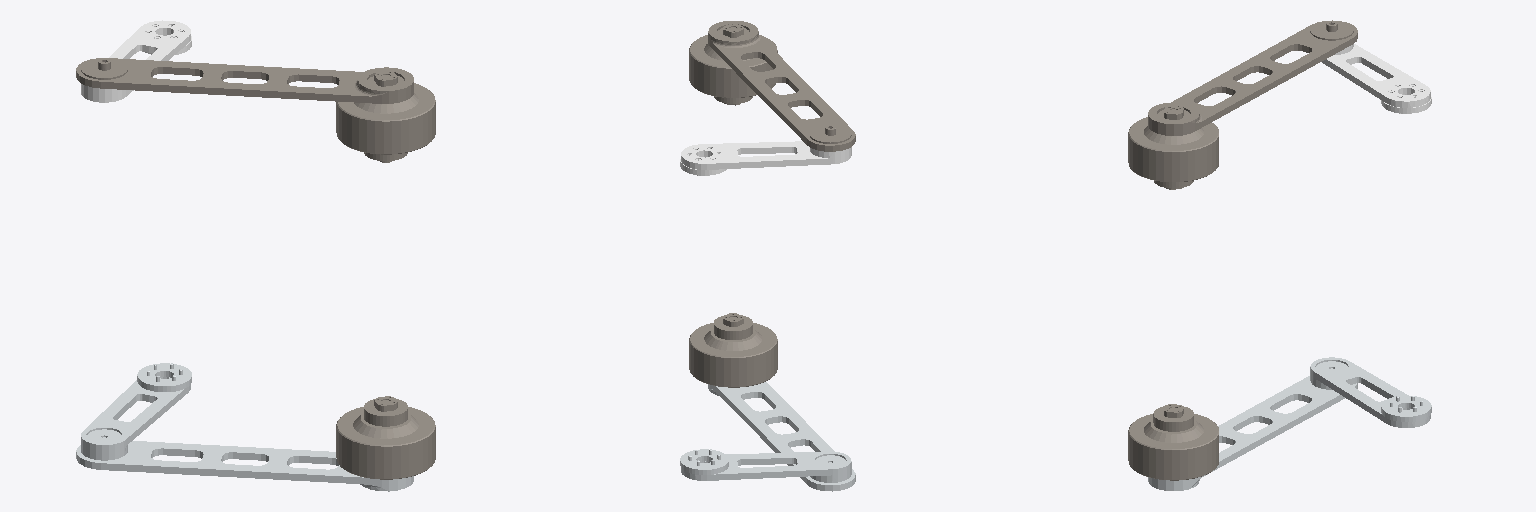
The robot description file, URDF, robot "main body(mass added)":
<?xml version="1.0" encoding="utf-8"?>
<!-- This URDF was automatically created by SolidWorks to URDF Exporter! Originally created by [author] ([email redacted]) 
     Commit Version: 1.6.0-4-g7f85cfe  Build Version: 1.6.7995.38578
     For more information, please see http://wiki.ros.org/sw_urdf_exporter -->
<robot
  name="main body(mass added)">
  <link
    name="base_link">
    <inertial>
      <origin
        xyz="-0.047473 0.91463 0.3072"
        rpy="0 0 0" />
      <mass
        value="1.7093" />
      <inertia
        ixx="0.0004649"
        ixy="-6.7637E-20"
        ixz="-3.9217E-21"
        iyy="0.00071923"
        iyz="-2.7655E-19"
        izz="0.0004649" />
    </inertial>
    <visual>
      <origin
        xyz="0 0 0"
        rpy="0 0 0" />
      <geometry>
        <mesh
          filename="package://main body(mass added)/meshes/base_link.STL" />
      </geometry>
      <material
        name="">
        <color
          rgba="0.64706 0.61961 0.58824 1" />
      </material>
    </visual>
    <collision>
      <origin
        xyz="0 0 0"
        rpy="0 0 0" />
      <geometry>
        <mesh
          filename="package://main body(mass added)/meshes/base_link.STL" />
      </geometry>
    </collision>
  </link>
  <link
    name="link 1">
    <inertial>
      <origin
        xyz="0.081385 -0.14288 0.013177"
        rpy="0 0 0" />
      <mass
        value="0.3802" />
      <inertia
        ixx="0.00014368"
        ixy="1.7415E-18"
        ixz="3.6434E-05"
        iyy="0.0040734"
        iyz="-6.2003E-19"
        izz="0.0042067" />
    </inertial>
    <visual>
      <origin
        xyz="0 0 0"
        rpy="0 0 0" />
      <geometry>
        <mesh
          filename="package://main body(mass added)/meshes/link 1.STL" />
      </geometry>
      <material
        name="">
        <color
          rgba="0.89804 0.91765 0.92941 1" />
      </material>
    </visual>
    <collision>
      <origin
        xyz="0 0 0"
        rpy="0 0 0" />
      <geometry>
        <mesh
          filename="package://main body(mass added)/meshes/link 1.STL" />
      </geometry>
    </collision>
  </link>
  <joint
    name="joint 1"
    type="revolute">
    <origin
      xyz="-0.16273 -0.039204 0.86778"
      rpy="0 0 -0.65279" />
    <parent
      link="base_link" />
    <child
      link="link 1" />
    <axis
      xyz="0 0 -1" />
    <limit
      lower="0"
      upper="0"
      effort="0"
      velocity="0" />
  </joint>
  <link
    name="link 2">
    <inertial>
      <origin
        xyz="-0.085575 -0.019273 -7.3413E-15"
        rpy="0 0 0" />
      <mass
        value="0.3131" />
      <inertia
        ixx="7.144E-05"
        ixy="1.6072E-05"
        ixz="1.7957E-18"
        iyy="0.00069651"
        iyz="-9.3387E-20"
        izz="0.00063648" />
    </inertial>
    <visual>
      <origin
        xyz="0 0 0"
        rpy="0 0 0" />
      <geometry>
        <mesh
          filename="package://main body(mass added)/meshes/link 2.STL" />
      </geometry>
      <material
        name="">
        <color
          rgba="0.89804 0.91765 0.92941 1" />
      </material>
    </visual>
    <collision>
      <origin
        xyz="0 0 0"
        rpy="0 0 0" />
      <geometry>
        <mesh
          filename="package://main body(mass added)/meshes/link 2.STL" />
      </geometry>
    </collision>
  </link>
  <joint
    name="joint 2"
    type="revolute">
    <origin
      xyz="0 0 0.012377"
      rpy="-1.5708 0 1.2615" />
    <parent
      link="link 1" />
    <child
      link="link 2" />
    <axis
      xyz="0 -1 0" />
    <limit
      lower="0"
      upper="0"
      effort="0"
      velocity="0" />
  </joint>
  <link
    name="link 3">
    <inertial>
      <origin
        xyz="0.0055268 -0.18601 0.017031"
        rpy="0 0 0" />
      <mass
        value="9.25" />
      <inertia
        ixx="0.028386"
        ixy="5.7075E-06"
        ixz="9.8079E-06"
        iyy="0.041168"
        iyz="1.3954E-06"
        izz="0.062196" />
    </inertial>
    <visual>
      <origin
        xyz="0 0 0"
        rpy="0 0 0" />
      <geometry>
        <mesh
          filename="package://main body(mass added)/meshes/link 3.STL" />
      </geometry>
      <material
        name="">
        <color
          rgba="1 1 1 1" />
      </material>
    </visual>
    <collision>
      <origin
        xyz="0 0 0"
        rpy="0 0 0" />
      <geometry>
        <mesh
          filename="package://main body(mass added)/meshes/link 3.STL" />
      </geometry>
    </collision>
  </link>
  <joint
    name="joint 3"
    type="revolute">
    <origin
      xyz="0.039525 -0.037973 -0.10069"
      rpy="0 0.60872 0" />
    <parent
      link="link 2" />
    <child
      link="link 3" />
    <axis
      xyz="0 0 0" />
    <limit
      lower="0"
      upper="0"
      effort="0"
      velocity="0" />
  </joint>
  <link
    name="link 4">
    <inertial>
      <origin
        xyz="0.042787 -0.017701 0.07411"
        rpy="0 0 0" />
      <mass
        value="0.3131" />
      <inertia
        ixx="0.00049522"
        ixy="8.0359E-06"
        ixz="-0.00024467"
        iyy="0.00069651"
        iyz="1.3919E-05"
        izz="0.0002127" />
    </inertial>
    <visual>
      <origin
        xyz="0 0 0"
        rpy="0 0 0" />
      <geometry>
        <mesh
          filename="package://main body(mass added)/meshes/link 4.STL" />
      </geometry>
      <material
        name="">
        <color
          rgba="1 1 1 1" />
      </material>
    </visual>
    <collision>
      <origin
        xyz="0 0 0"
        rpy="0 0 0" />
      <geometry>
        <mesh
          filename="package://main body(mass added)/meshes/link 4.STL" />
      </geometry>
    </collision>
  </link>
  <joint
    name="joint 4"
    type="revolute">
    <origin
      xyz="-0.09 -0.373 0.06"
      rpy="3.1416 -0.43848 3.1416" />
    <parent
      link="link 3" />
    <child
      link="link 4" />
    <axis
      xyz="0 1 0" />
    <limit
      lower="0"
      upper="0"
      effort="0"
      velocity="0" />
  </joint>
  <link
    name="link 5">
    <inertial>
      <origin
        xyz="0.1492 -0.019823 0.069122"
        rpy="0 0 0" />
      <mass
        value="0.3802" />
      <inertia
        ixx="0.0040458"
        ixy="3.0541E-06"
        ixz="-0.00032825"
        iyy="0.0042067"
        iyz="3.6306E-05"
        izz="0.0001713" />
    </inertial>
    <visual>
      <origin
        xyz="0 0 0"
        rpy="0 0 0" />
      <geometry>
        <mesh
          filename="package://main body(mass added)/meshes/link 5.STL" />
      </geometry>
      <material
        name="">
        <color
          rgba="0.64706 0.61961 0.58824 1" />
      </material>
    </visual>
    <collision>
      <origin
        xyz="0 0 0"
        rpy="0 0 0" />
      <geometry>
        <mesh
          filename="package://main body(mass added)/meshes/link 5.STL" />
      </geometry>
    </collision>
  </link>
  <joint
    name="joint 5"
    type="revolute">
    <origin
      xyz="0 -0.016351 0"
      rpy="0 -1.4404 0" />
    <parent
      link="link 4" />
    <child
      link="link 5" />
    <axis
      xyz="0 1 0" />
    <limit
      lower="0"
      upper="0"
      effort="0"
      velocity="0" />
  </joint>
  <link
    name="link 6">
    <inertial>
      <origin
        xyz="-2.2204E-16 0.04085 4.4409E-16"
        rpy="0 0 0" />
      <mass
        value="1.7093" />
      <inertia
        ixx="0.0004649"
        ixy="-1.8026E-18"
        ixz="0"
        iyy="0.00071923"
        iyz="2.352E-18"
        izz="0.0004649" />
    </inertial>
    <visual>
      <origin
        xyz="0 0 0"
        rpy="0 0 0" />
      <geometry>
        <mesh
          filename="package://main body(mass added)/meshes/link 6.STL" />
      </geometry>
      <material
        name="">
        <color
          rgba="0.64706 0.61961 0.58824 1" />
      </material>
    </visual>
    <collision>
      <origin
        xyz="0 0 0"
        rpy="0 0 0" />
      <geometry>
        <mesh
          filename="package://main body(mass added)/meshes/link 6.STL" />
      </geometry>
    </collision>
  </link>
  <joint
    name="joint 6"
    type="fixed">
    <origin
      xyz="0.1637 0.0547 0.24147"
      rpy="3.1416 -0.98914 0" />
    <parent
      link="link 5" />
    <child
      link="link 6" />
    <axis
      xyz="0 0 0" />
  </joint>
</robot>

--- Facts derived from the render (not from the file) ---
3 views of the same robot in one strip: view 1: azimuth 30°, elevation 25°; view 2: azimuth 150°, elevation 25°; view 3: azimuth 270°, elevation 25° (orthographic).
Robot: main body(mass added) — 7 links, 6 joints (5 revolute, 1 fixed); root link base_link; default pose: all joints at 0.
Visible links, largest first — view 1: link 5, link 1, base_link, link 6, link 2, link 4; view 2: link 5, base_link, link 2, link 1, link 4, link 6; view 3: link 5, base_link, link 6, link 1, link 2, link 4.
Boxes of the visible links, <box> form: link 5: <box>76,58,413,103</box>; link 1: <box>76,437,413,491</box>; base_link: <box>336,396,435,479</box>; link 6: <box>336,71,435,162</box>; link 2: <box>81,363,191,460</box>; link 4: <box>81,20,191,102</box>; link 5: <box>708,21,855,151</box>; base_link: <box>689,313,777,387</box>; link 2: <box>680,449,851,482</box>; link 1: <box>708,382,855,491</box>; link 4: <box>680,141,851,175</box>; link 6: <box>689,24,777,105</box>; link 5: <box>1148,20,1357,135</box>; base_link: <box>1128,404,1218,480</box>; link 6: <box>1128,106,1218,189</box>; link 1: <box>1148,368,1357,490</box>; link 2: <box>1310,357,1431,427</box>; link 4: <box>1322,44,1431,113</box>.
Size in the robot's own frame: 0.3208 by 0.3494 by 0.4747 metres.
6 mesh visuals loaded from 7 distinct referenced files (6 binary STL); not drawn: 1 (reference not matched to a file when rendering).